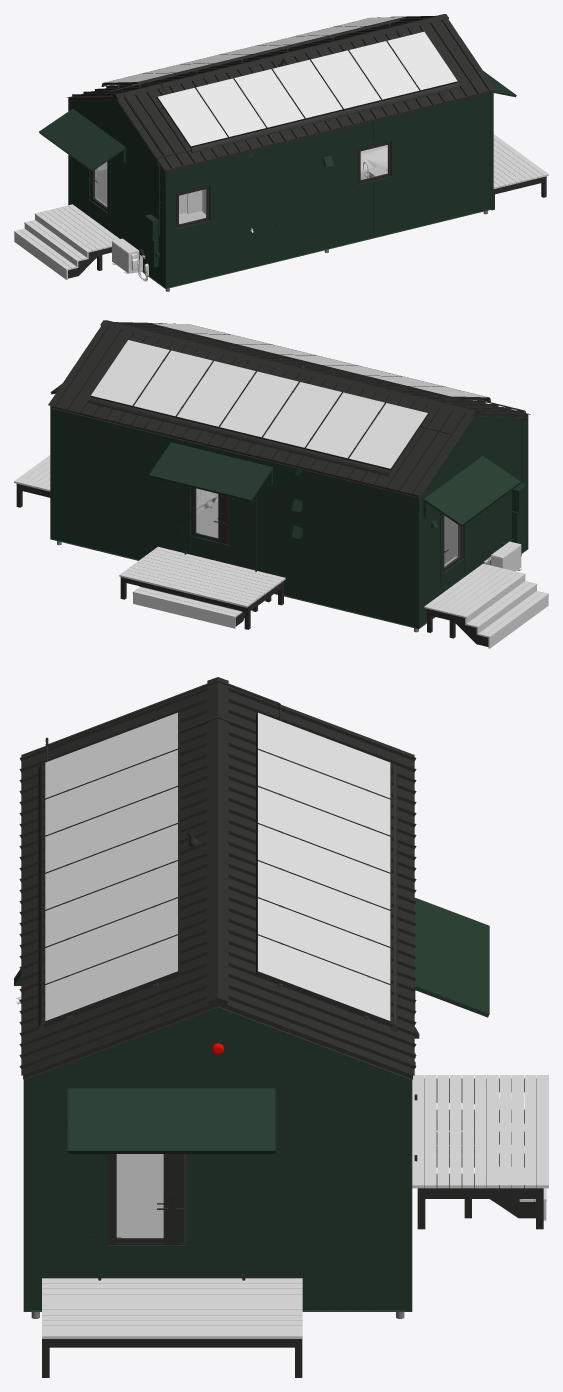
File: Samara_Studio.glb
3 renders of one model, top to bottom at view 1: azimuth 30°, elevation 25°; view 2: azimuth 150°, elevation 25°; view 3: azimuth 270°, elevation 25°, orthographic. The views are drawn at different scales.
Visible parts, largest first — view 1: Wall_e_BackWindow_S, SP_Right_S, Roof_S, Wall_e_LeftWindow_W_S, Deck_S, Awning_Rigth_S, SP_Left_S, Shield_Right_S, Frame_BackWindow_S, Deck_Left_S, Glass_S, Wall_e_RightWindow1_S (+16 smaller); view 2: Wall_e_FrontWindow_S, SP_Left_S, Roof_S, Wall_e_LeftWindow_W_S, Deck_S, Deck_Front_S, Awning_Front_S, Awning_Rigth_S, SP_Right_S, Shield_Left_S, Deck1_S, Frame_Around_S.001 (+21 smaller); view 3: Wall_e_LefttDoor_W_S, Roof_S, SP_Left_S, SP_Right_S, Deck_Left_S, Deck_Front_S, Awning_Left_S, Wall_e_LeftDoor_S, Awning_Front_S, Wall_e_LeftDoor_W_S, Door_GlassLeft_S, Floor_S (+13 smaller).
Part boxes in pixels (x1,y1,x2,y2): Wall_e_BackWindow_S: (168,93,490,287); SP_Right_S: (156,31,458,147); Roof_S: (66,14,495,172); Wall_e_LeftWindow_W_S: (70,100,165,286); Deck_S: (14,204,119,279); Awning_Rigth_S: (39,108,125,171); SP_Left_S: (103,17,404,84); Shield_Right_S: (190,82,459,153); Frame_BackWindow_S: (173,121,394,281); Deck_Left_S: (493,134,548,188); Glass_S: (179,145,387,224); Wall_e_RightWindow1_S: (71,157,163,285); Wall_e_FrontWindow_S: (53,409,415,626); SP_Left_S: (90,339,428,470); Roof_S: (48,320,530,497); Wall_e_LeftWindow_W_S: (420,416,526,626); Deck_S: (424,563,548,648); Deck_Front_S: (119,546,285,607); Awning_Front_S: (149,442,272,501); Awning_Rigth_S: (423,456,520,526); SP_Right_S: (150,323,488,399); Shield_Left_S: (88,397,390,476); Deck1_S: (132,586,242,628); Frame_Around_S.001: (50,408,528,628); Wall_e_LefttDoor_W_S: (30,1007,405,1309); Roof_S: (19,677,416,1079); SP_Left_S: (256,712,391,1024); SP_Right_S: (44,712,179,1024); Deck_Left_S: (42,1278,302,1338); Deck_Front_S: (412,1075,548,1188); Awning_Left_S: (67,1088,275,1153); Wall_e_LeftDoor_S: (34,1007,400,1309); Awning_Front_S: (414,897,489,1017); Wall_e_LeftDoor_W_S: (30,1008,405,1309); Door_GlassLeft_S: (117,1154,184,1242); Floor_S: (116,1154,163,1237).
Bounding box in the file's own units: 11.99 × 4.29 × 6.26.
